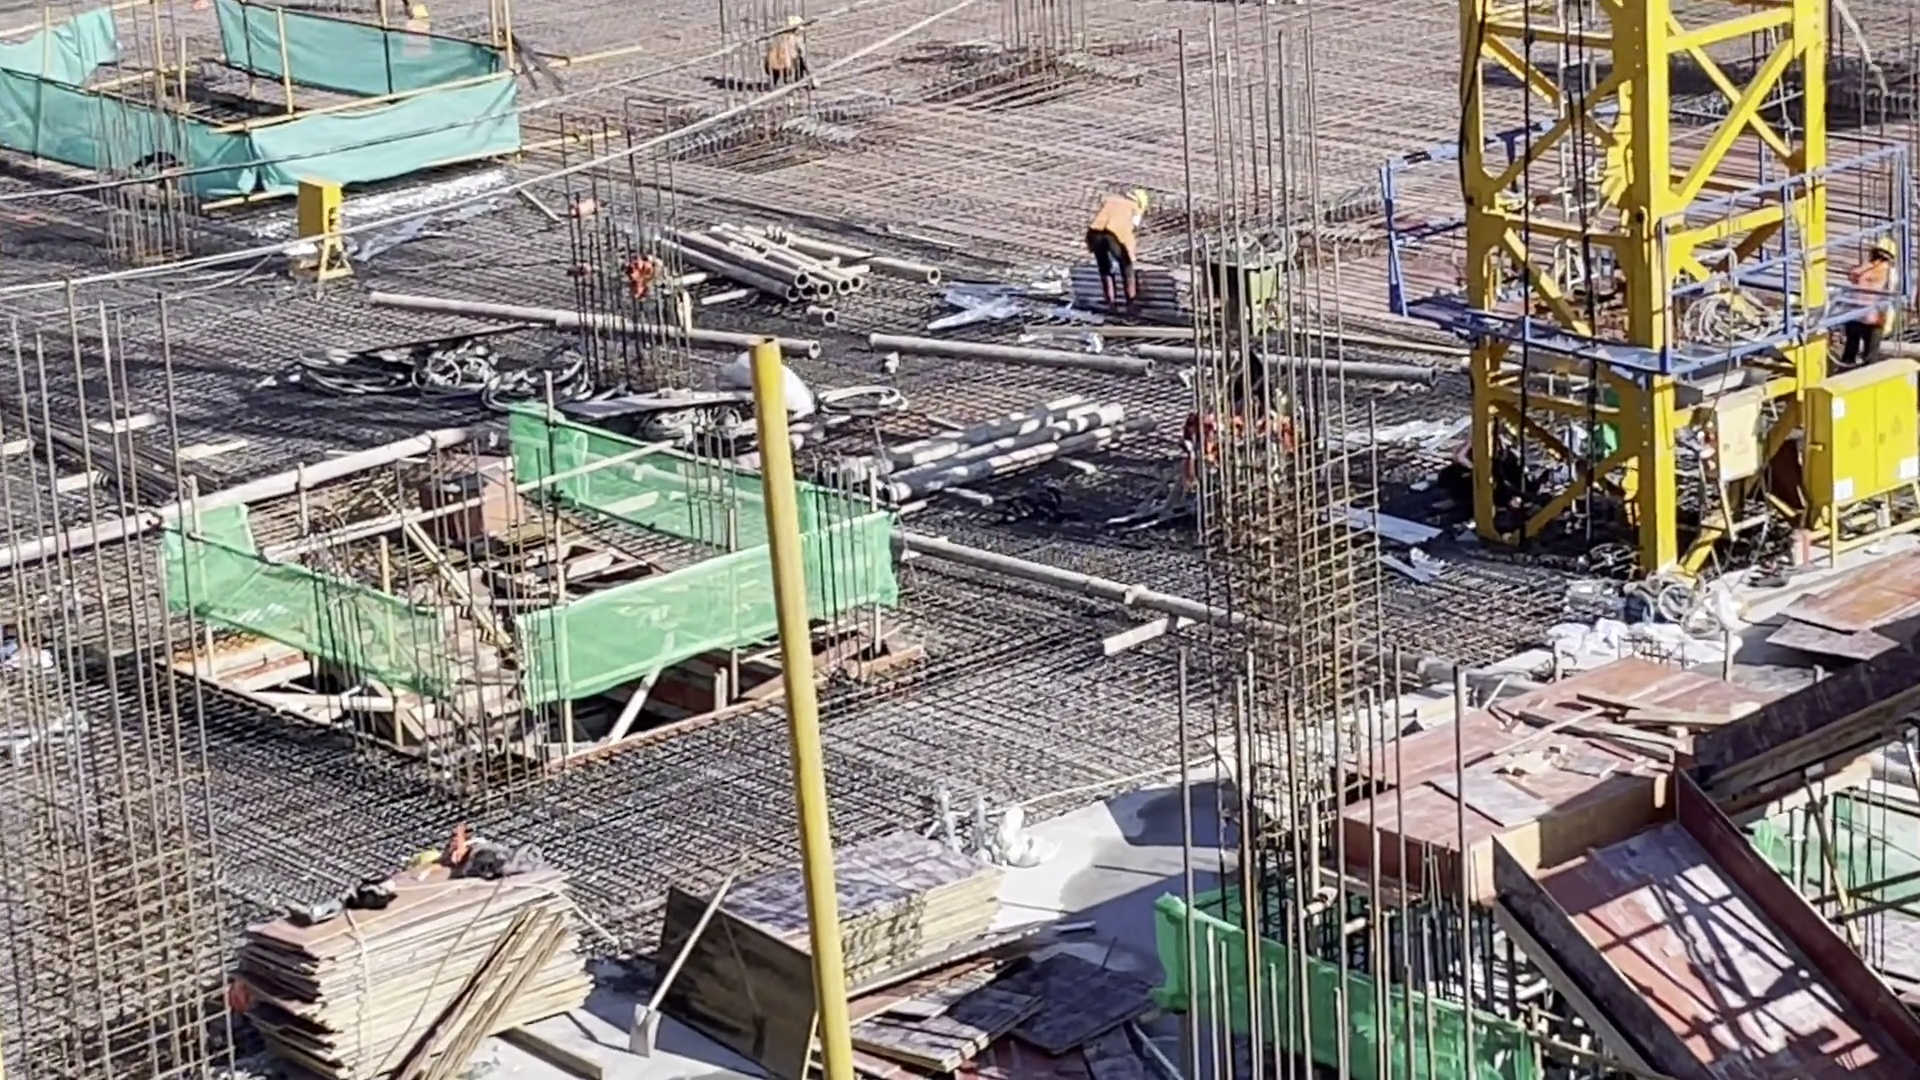helmet: (1129, 186, 1146, 206), (782, 16, 801, 29), (411, 6, 428, 18)
person: (1096, 185, 1149, 331), (1855, 241, 1903, 365), (769, 20, 815, 89), (401, 5, 444, 68)
vest: (1093, 193, 1136, 255), (770, 35, 804, 71), (405, 23, 430, 54)
